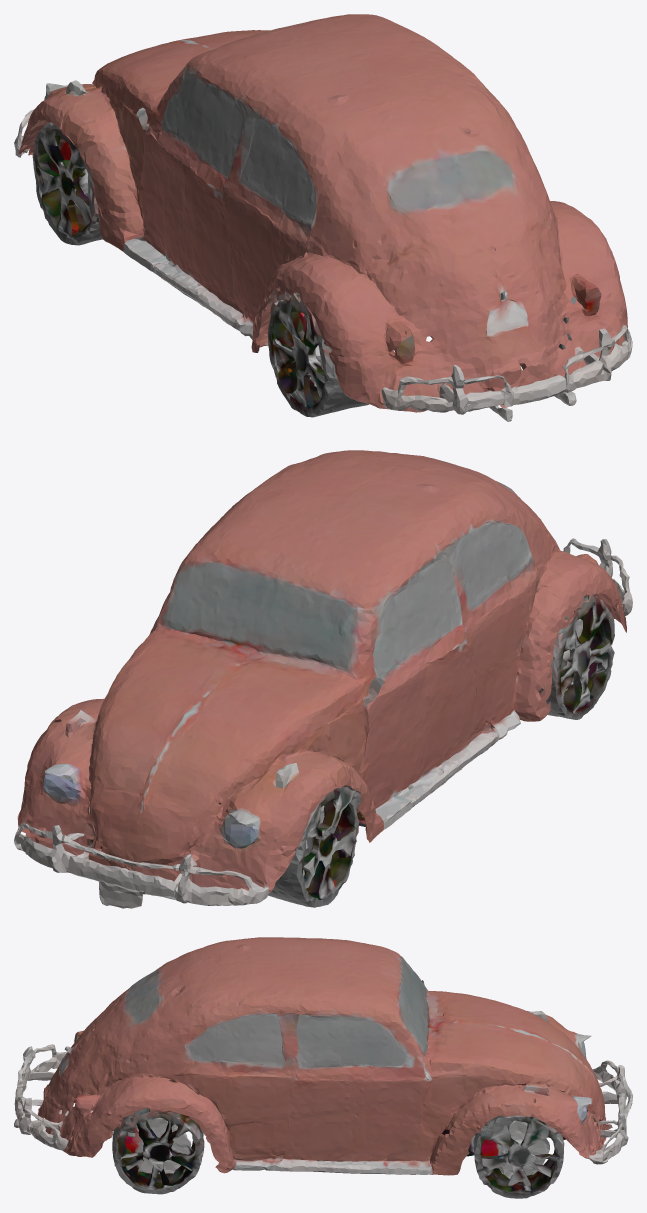
The picture shows the model from 3 angles, top to bottom: view 1: azimuth 30°, elevation 25°; view 2: azimuth 150°, elevation 25°; view 3: azimuth 270°, elevation 25°; orthographic projection. The views are drawn at different scales.
Parts seen in each view (by area): view 1: defaultobject; view 2: defaultobject; view 3: defaultobject.
Boxes of the visible parts, <box> form: defaultobject: <box>14,14,632,421</box>; defaultobject: <box>14,450,632,908</box>; defaultobject: <box>14,937,632,1198</box>.
Size of the model in its own units: 0.3792 by 0.3226 by 0.9489.
